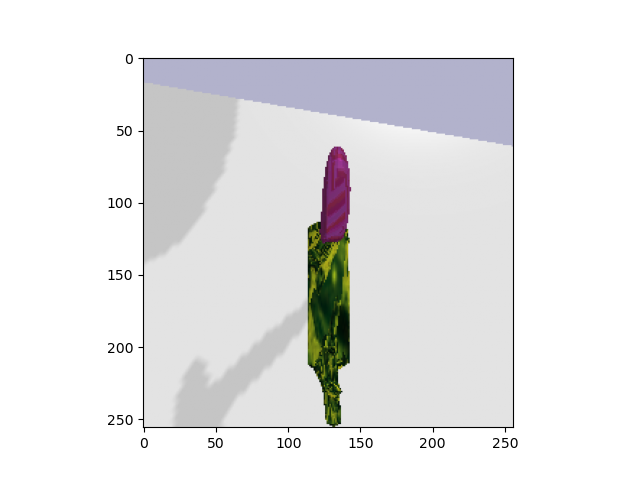v249b387_105: (317, 144, 356, 248)
v249b387_108: (303, 221, 360, 426)
